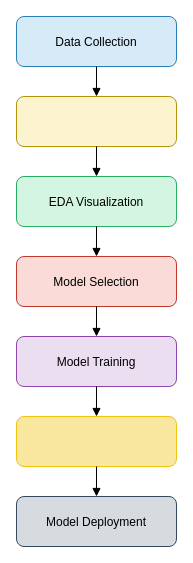
This 193x563 diagram has some shape labels left out. The shapes that lost their labels are listed below. From the top down, each one's centre as x and y in pixels, then its label:
pixel 96 121: Data Pre-processing
pixel 96 441: Evaluation
